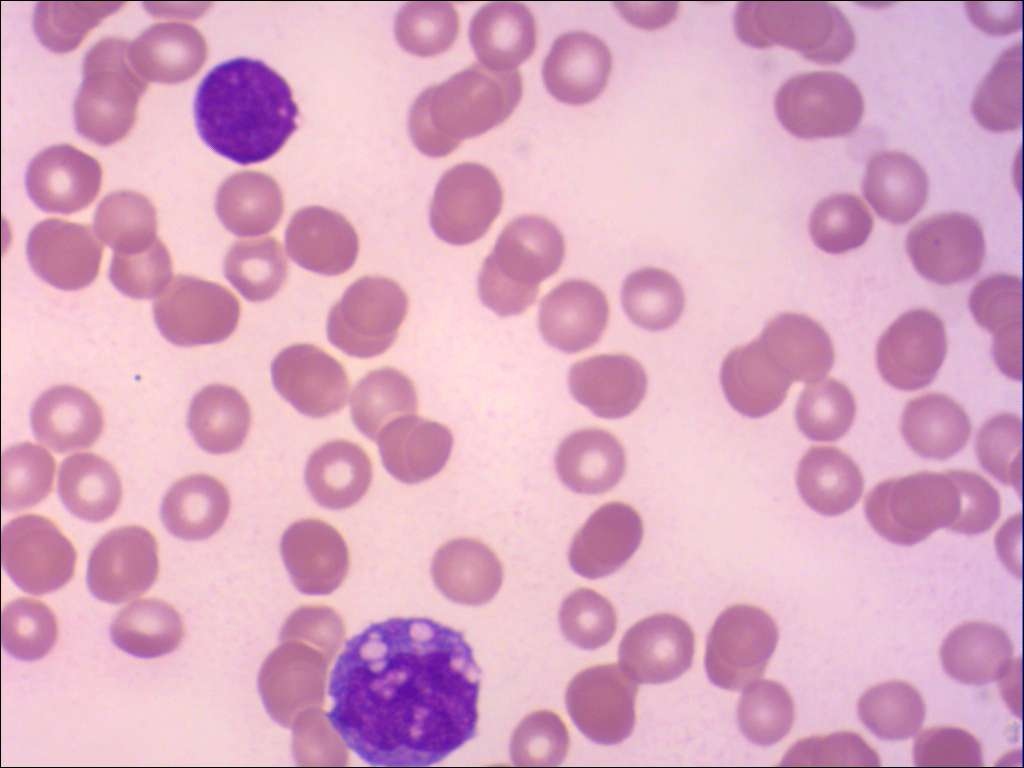42: (319, 614, 485, 768)
x: (188, 51, 306, 170)
